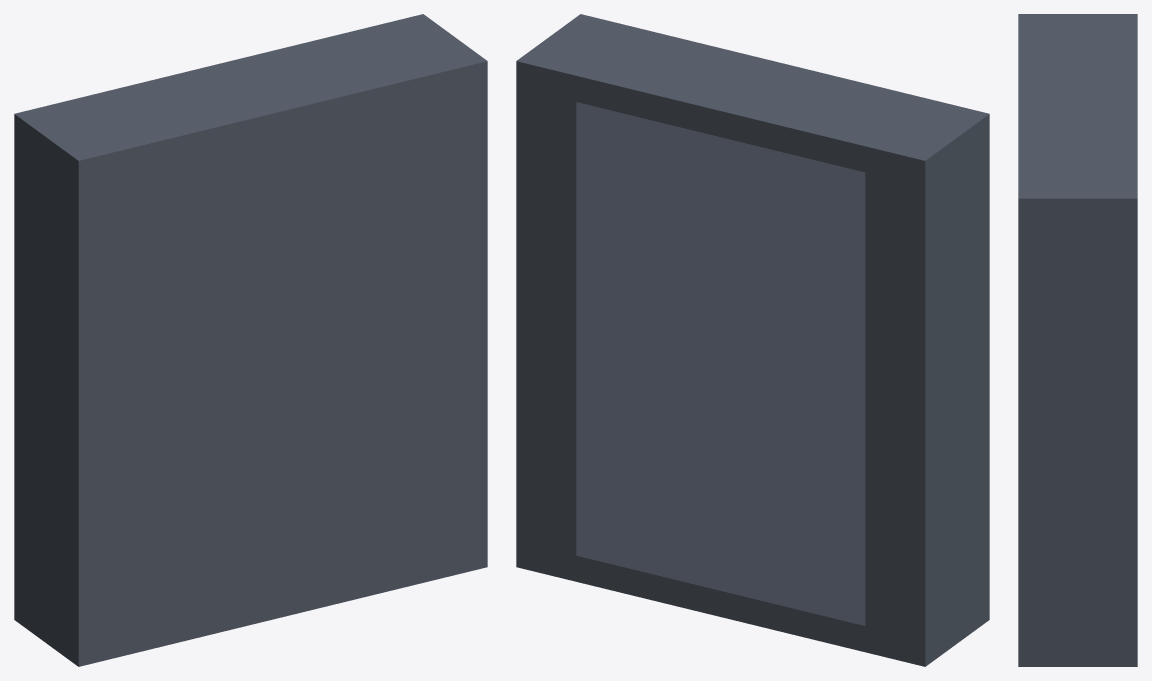
The model's file is door.obj.
The picture shows the model from 3 angles, left to right: view 1: azimuth 30°, elevation 25°; view 2: azimuth 150°, elevation 25°; view 3: azimuth 270°, elevation 25°; orthographic projection. The views are drawn at different scales.
Visible parts, largest first — view 1: Cube; view 2: Cube; view 3: Cube.
Boxes of the visible parts, x1,y1,x2,y2 form: Cube: (14, 14, 487, 666); Cube: (516, 14, 989, 666); Cube: (1018, 14, 1137, 666).
Size of the model in its own units: 1.1 by 1.3 by 0.3.
Materials: 1 (1 with a texture image).
